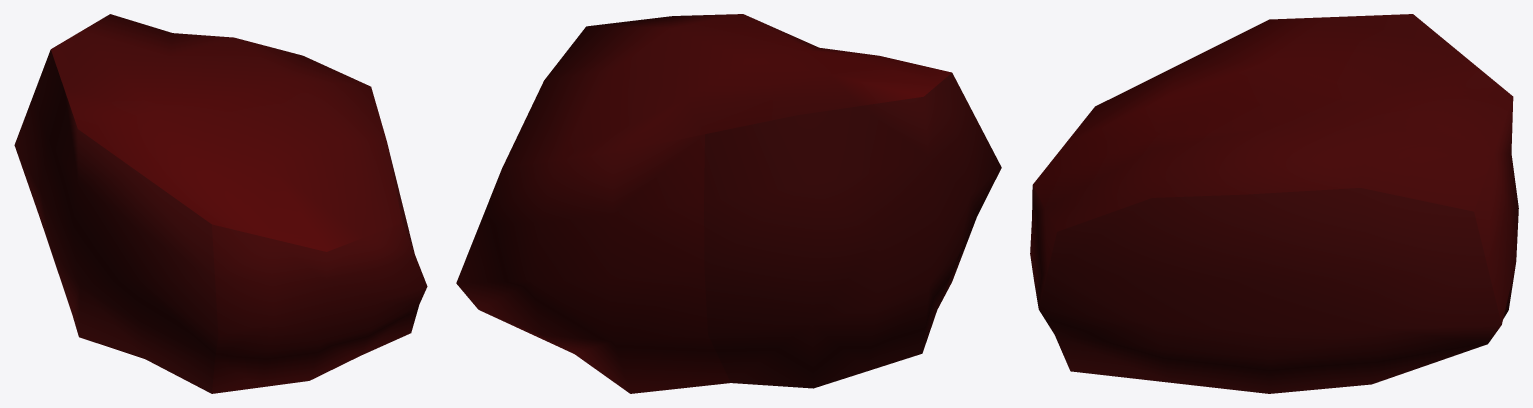
File: geology-pebbles-asphalt_v4.fbx
3 renders of one model, left to right at view 1: azimuth 30°, elevation 25°; view 2: azimuth 150°, elevation 25°; view 3: azimuth 270°, elevation 25°, orthographic. The views are drawn at different scales.
Visible parts, largest first — view 1: Asphalt_v4; view 2: Asphalt_v4; view 3: Asphalt_v4.
Part boxes in pixels (x1,y1,x2,y2): Asphalt_v4: (14,14,427,393); Asphalt_v4: (456,14,1001,393); Asphalt_v4: (1030,14,1518,393).
Bounding box in the file's own units: 5.92 × 4.57 × 7.47.
